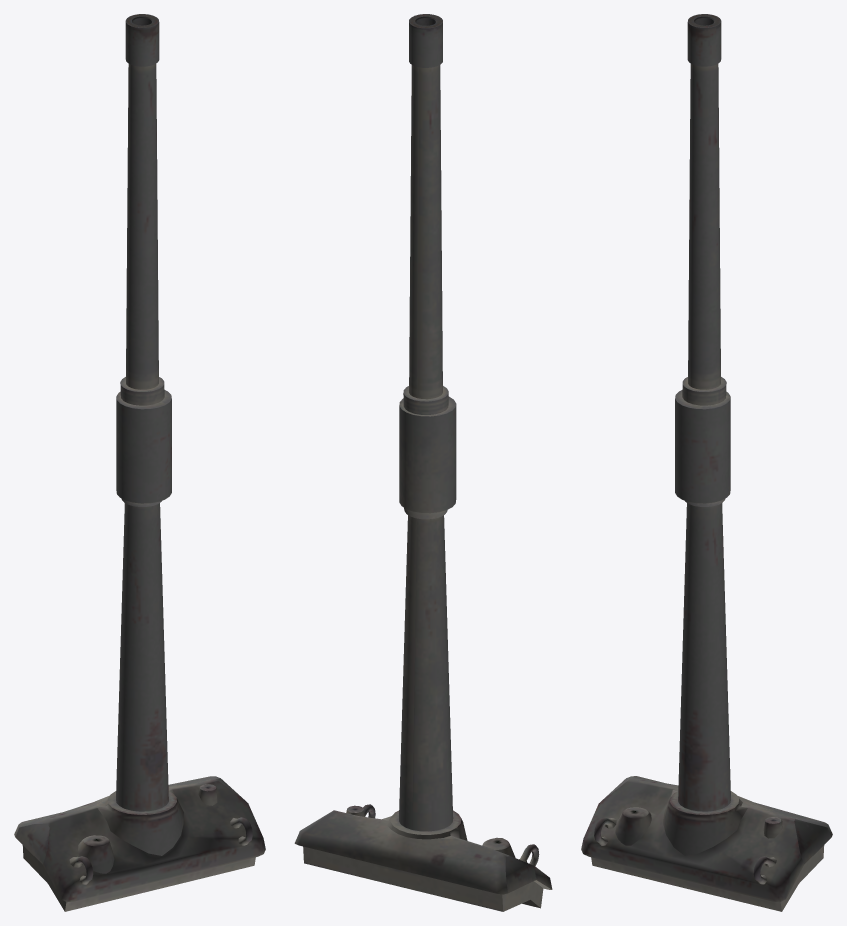
The model's file is Gun_06.glb.
The picture shows the model from 3 angles, left to right: view 1: azimuth 30°, elevation 25°; view 2: azimuth 150°, elevation 25°; view 3: azimuth 330°, elevation 25°; orthographic projection. The views are drawn at different scales.
Parts seen in each view (by area): view 1: set_0_group_0; view 2: set_0_group_0; view 3: set_0_group_0.
Boxes of the visible parts, box(x1,y1,x2,y2) form: set_0_group_0: box(14, 14, 265, 911); set_0_group_0: box(294, 14, 552, 911); set_0_group_0: box(581, 14, 832, 911).
Size of the model in its own units: 1.21 by 4.77 by 0.571.
Materials: 1 (1 with a texture image).
